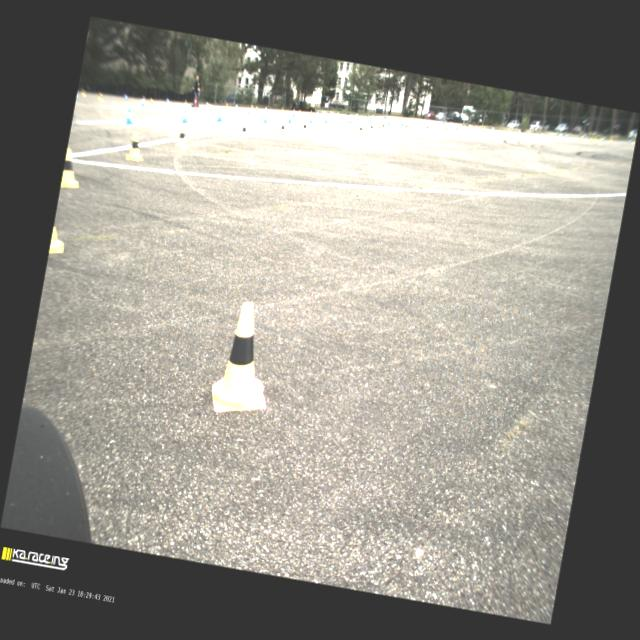blue_cone: (123, 107, 136, 124), (181, 108, 190, 124), (216, 110, 224, 122), (286, 113, 294, 123), (262, 112, 268, 123), (140, 96, 146, 107), (308, 114, 314, 123), (323, 114, 329, 123), (368, 115, 373, 124), (348, 115, 353, 123), (292, 108, 296, 117), (209, 104, 213, 112), (123, 93, 128, 99), (387, 118, 391, 125), (400, 118, 404, 125), (247, 105, 250, 114), (332, 112, 336, 118), (356, 114, 360, 120), (382, 117, 386, 123), (166, 97, 170, 102), (549, 132, 552, 138), (491, 126, 494, 131), (76, 94, 78, 100), (235, 104, 238, 108), (264, 106, 267, 110), (448, 122, 451, 126), (558, 134, 561, 138), (564, 134, 567, 138), (602, 136, 604, 142), (206, 101, 208, 106), (468, 124, 470, 129), (540, 132, 542, 137), (316, 110, 318, 114), (392, 116, 394, 120), (410, 118, 412, 122), (424, 120, 426, 124), (438, 121, 440, 125), (447, 122, 449, 126), (452, 122, 454, 126), (354, 114, 356, 117)
yellow_cone: (208, 298, 282, 419), (60, 146, 84, 190), (125, 131, 147, 162), (48, 226, 66, 254), (174, 125, 190, 148), (238, 123, 249, 139), (278, 122, 287, 136), (357, 123, 365, 135), (300, 122, 308, 133), (369, 122, 375, 132), (403, 122, 409, 132), (98, 92, 104, 101), (148, 98, 154, 107), (381, 121, 386, 131), (80, 88, 86, 96), (578, 134, 584, 142), (424, 124, 429, 132), (455, 124, 459, 132), (184, 98, 188, 105), (225, 102, 229, 109), (207, 102, 210, 110), (444, 126, 448, 132), (552, 134, 556, 140), (588, 136, 592, 142), (608, 136, 612, 142), (255, 105, 258, 112), (366, 114, 369, 121), (250, 104, 253, 110), (517, 130, 520, 136), (593, 136, 596, 142), (598, 136, 601, 142), (281, 107, 284, 112), (310, 108, 312, 114), (416, 118, 418, 124), (418, 118, 420, 124), (434, 120, 436, 126), (298, 109, 300, 114), (414, 118, 416, 123), (480, 124, 482, 129), (326, 111, 328, 115), (356, 112, 358, 116), (426, 120, 428, 124), (450, 122, 452, 126), (336, 112, 338, 115), (404, 119, 406, 122), (422, 119, 424, 122), (372, 114, 374, 116)
